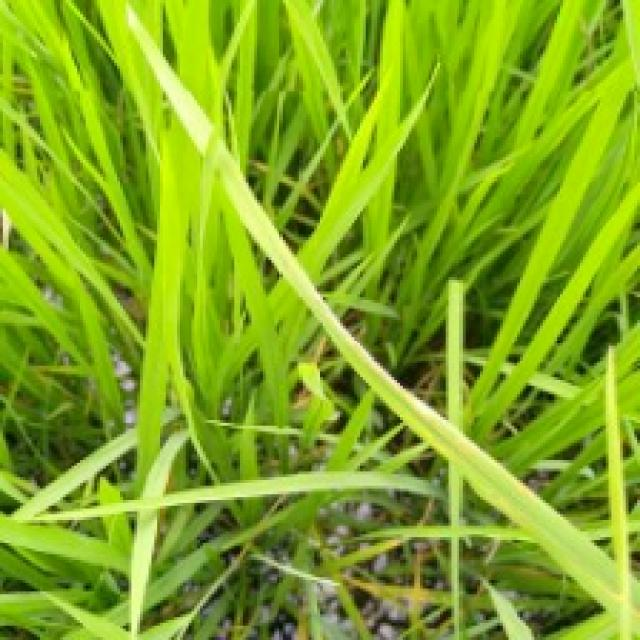Unhealthy: (295, 259, 527, 488)
